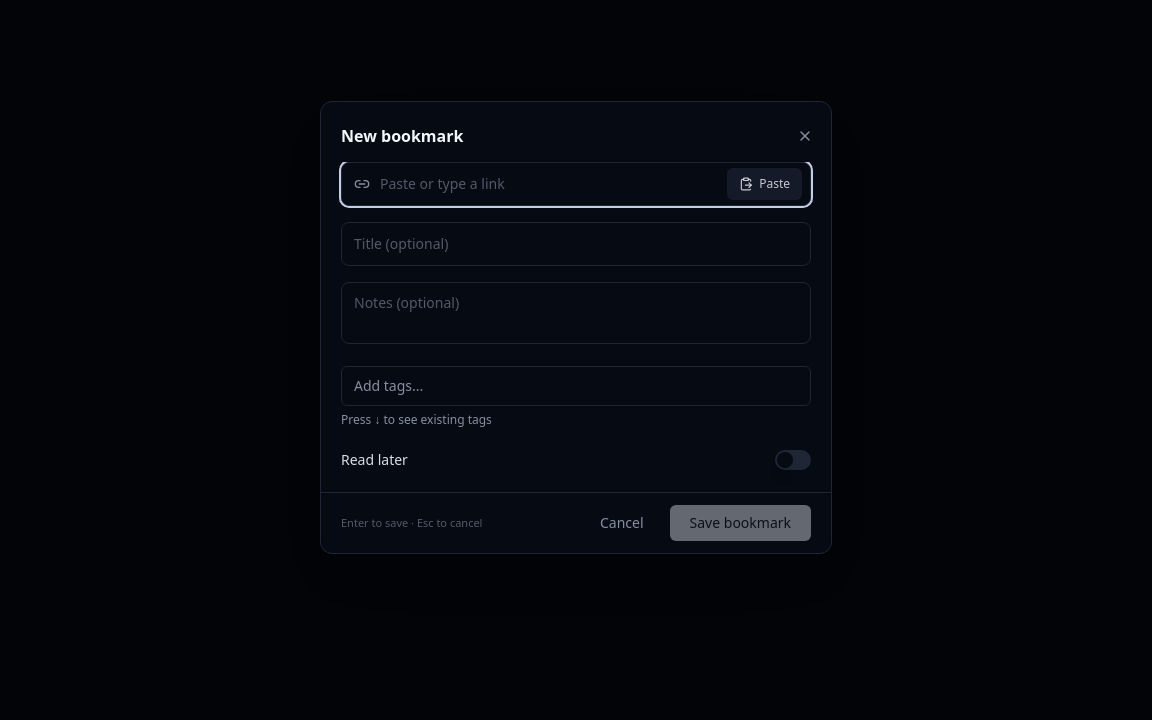
AddBookmarkDialog › Paste button › fills the URL from the clipboard and moves focus to title
The image size is (1152, 720).
Click the button with aria-label "Paste link from clipboard": point(765, 184) [727,168,802,200]
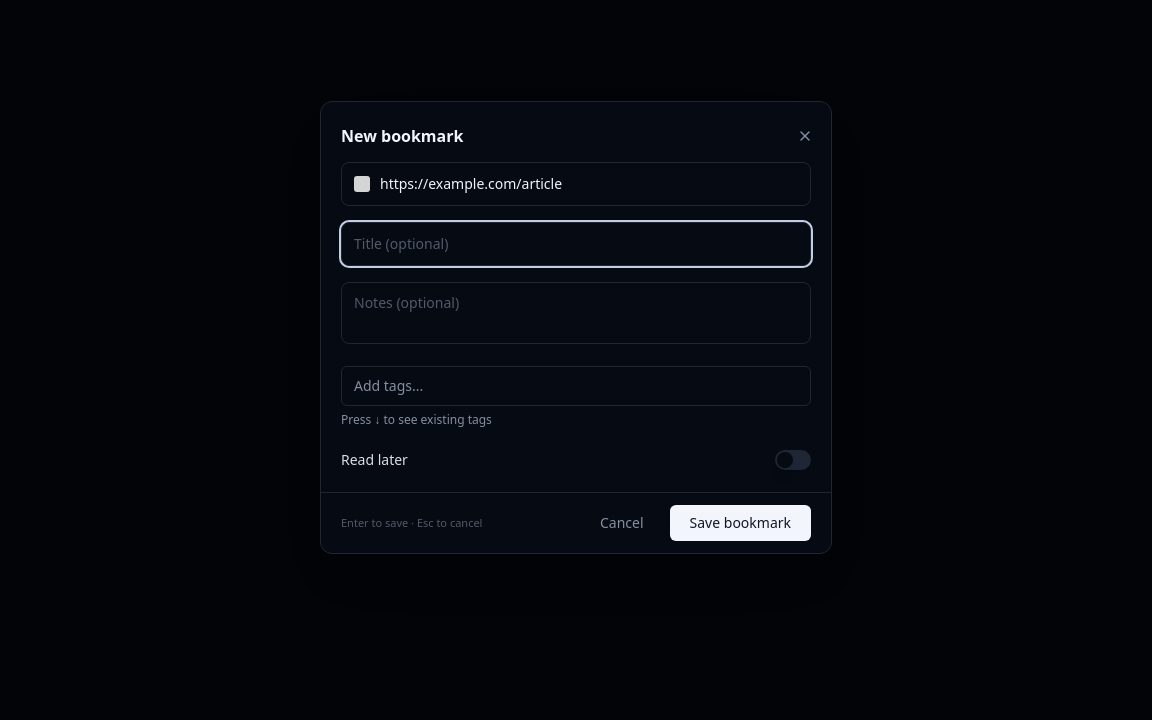
Check: the field with placeholder "Paste or type a link" holds "https://example.com/article", box [380,163,798,205]
